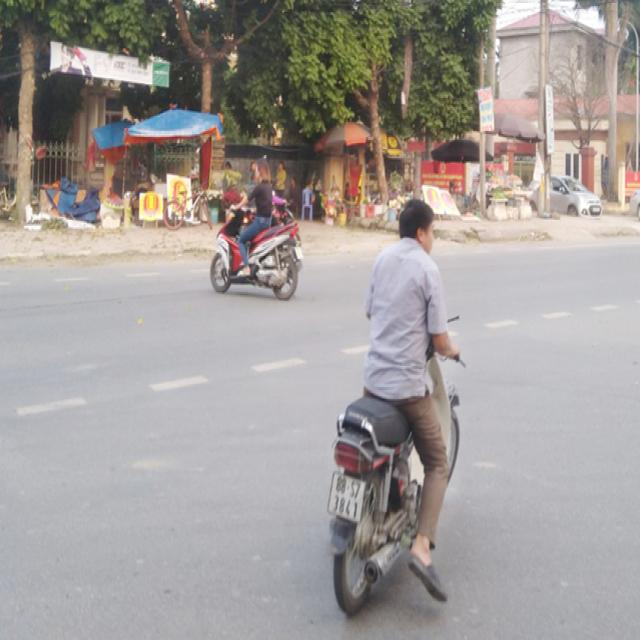no_helmet: (393, 191, 443, 269)
